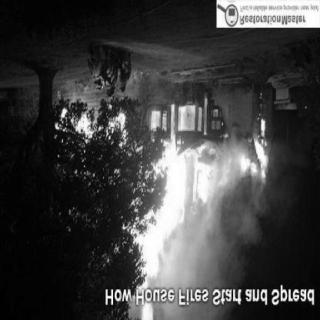Fire: (56, 86, 272, 314)
